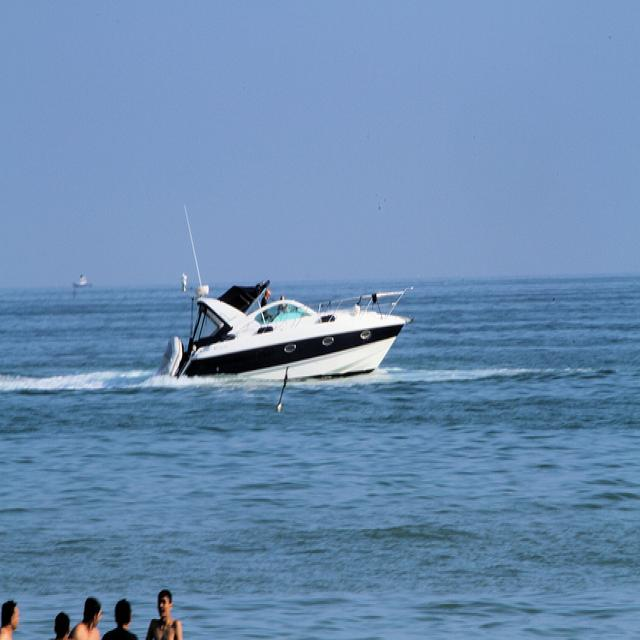houseboat: (158, 236, 406, 397), (71, 265, 94, 300)
